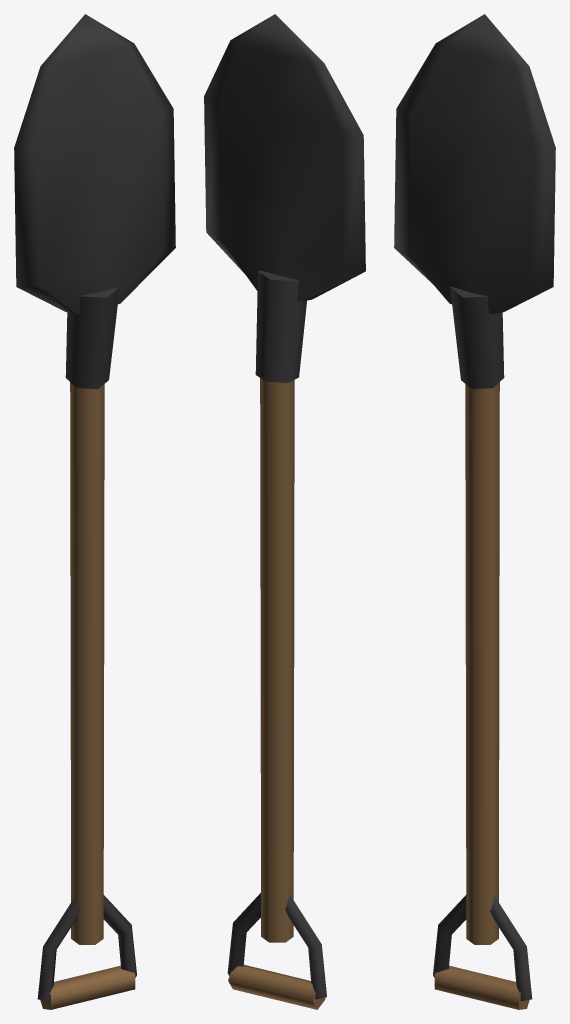
File: shovel.glb
The picture shows the model from 3 angles, left to right: view 1: azimuth 30°, elevation 25°; view 2: azimuth 150°, elevation 25°; view 3: azimuth 330°, elevation 25°; orthographic projection.
Parts seen in each view (by area): view 1: shovel; view 2: shovel; view 3: shovel.
Part boxes in pixels (x1,y1,x2,y2): shovel: (14,14,175,1009); shovel: (204,14,365,1009); shovel: (394,14,555,1009).
Bounding box in the file's own units: 0.17 × 1 × 0.0557.
